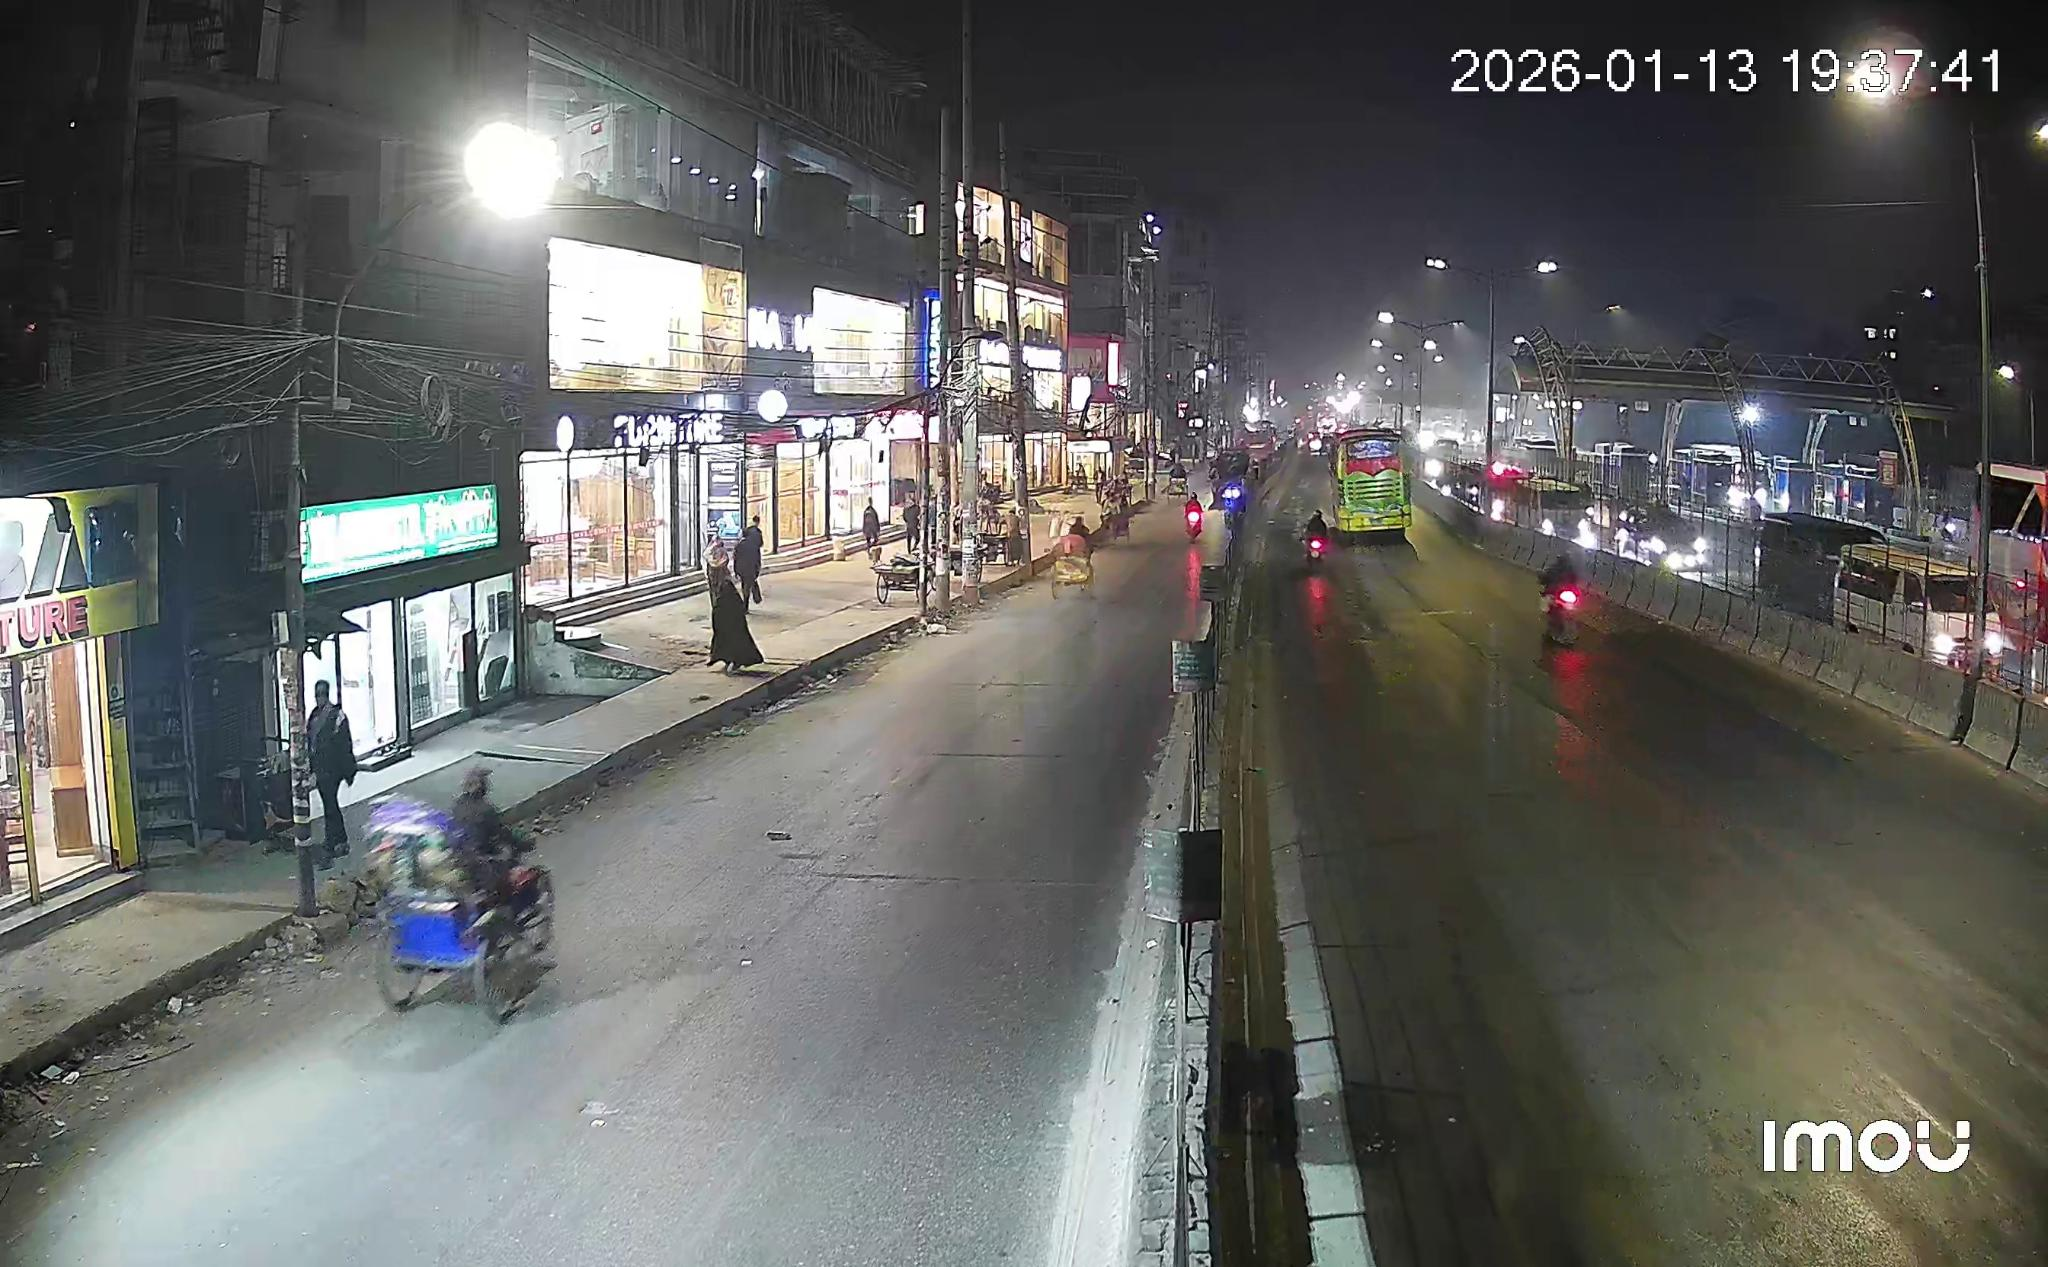Bus: (1333, 426, 1413, 541)
Cycle Rickshaw: (369, 770, 551, 1018), (1050, 519, 1091, 588)
Microbus: (1833, 544, 1973, 669), (1982, 613, 2016, 657)
Motorcycle: (1540, 559, 1581, 645), (1300, 511, 1333, 569)
